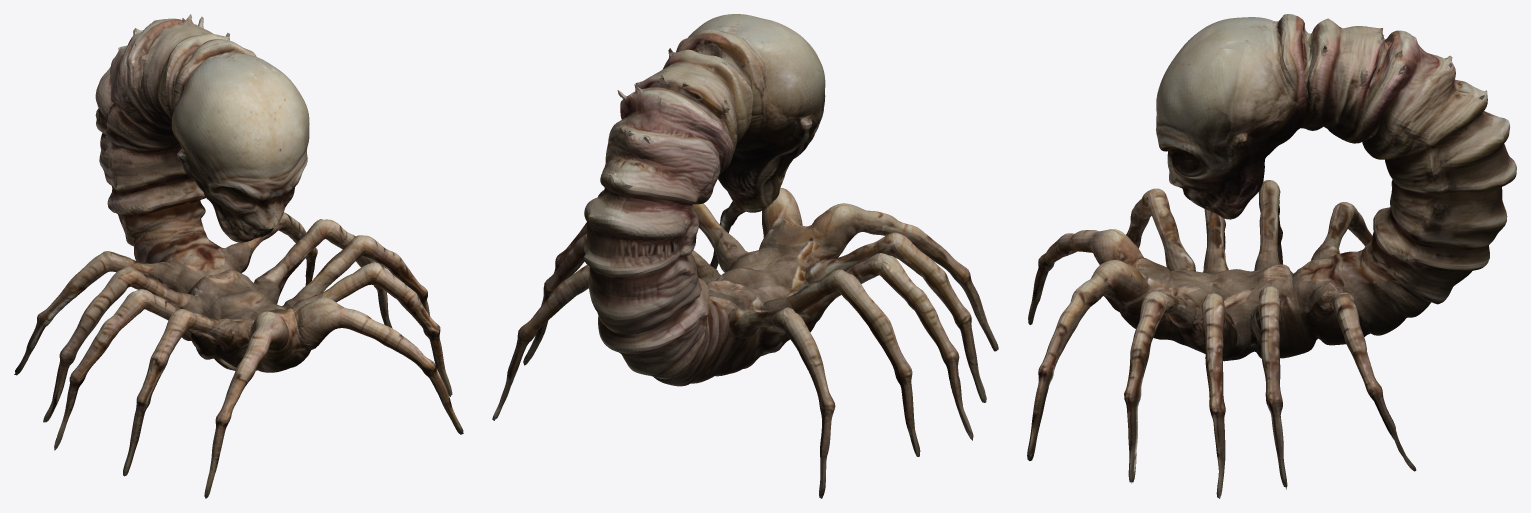
The model's file is Arachnor.glb.
The picture shows the model from 3 angles, left to right: view 1: azimuth 30°, elevation 25°; view 2: azimuth 150°, elevation 25°; view 3: azimuth 270°, elevation 25°; orthographic projection. The views are drawn at different scales.
Bounding box in the file's own units: 2.01 × 1.7 × 2.
1 material, 1 textured.
